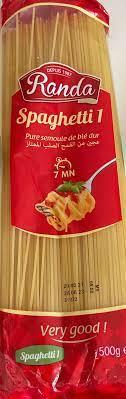Spaghetti: (3, 4, 126, 399)
